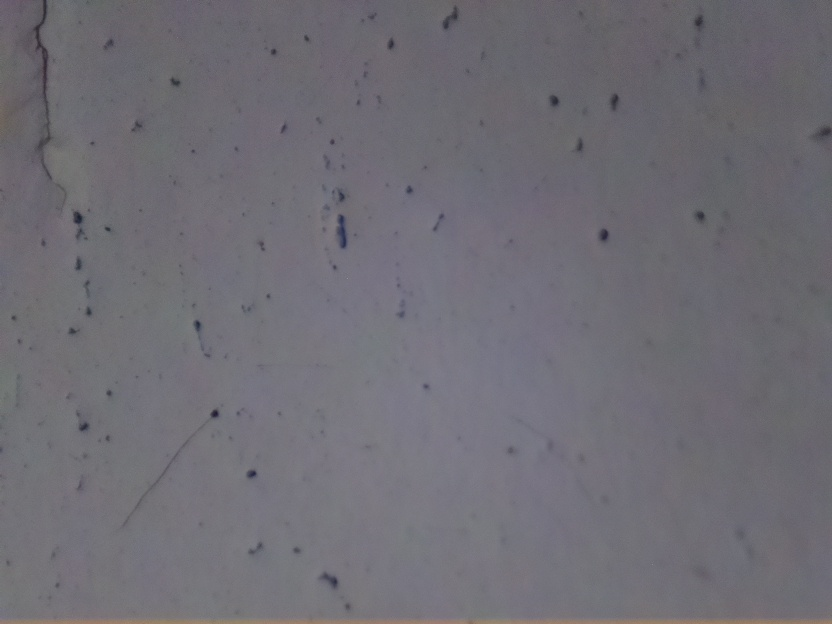crack: (29, 0, 64, 204)
